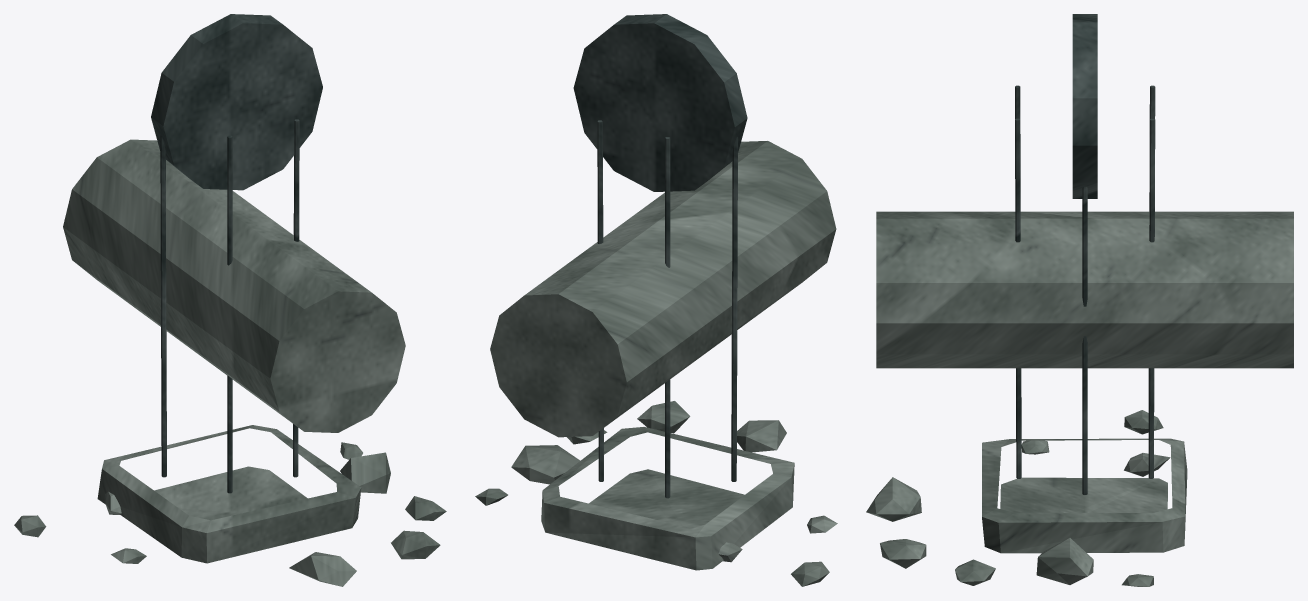
Rendered from 0267_broken_column_17.glb.
The picture shows the model from 3 angles, left to right: view 1: azimuth 30°, elevation 25°; view 2: azimuth 150°, elevation 25°; view 3: azimuth 270°, elevation 25°; orthographic projection.
Visible parts, largest first — view 1: stone, stone_dark; view 2: stone, stone_dark; view 3: stone, stone_dark.
Part boxes in pixels (x1,y1,x2,y2): stone: [14, 139, 446, 586]; stone_dark: [151, 14, 322, 493]; stone: [475, 141, 837, 586]; stone_dark: [573, 14, 747, 498]; stone: [866, 211, 1293, 586]; stone_dark: [1015, 14, 1155, 494].
Size of the model in its own units: 2.37 by 3.27 by 2.55.
2 materials, 2 textured.
